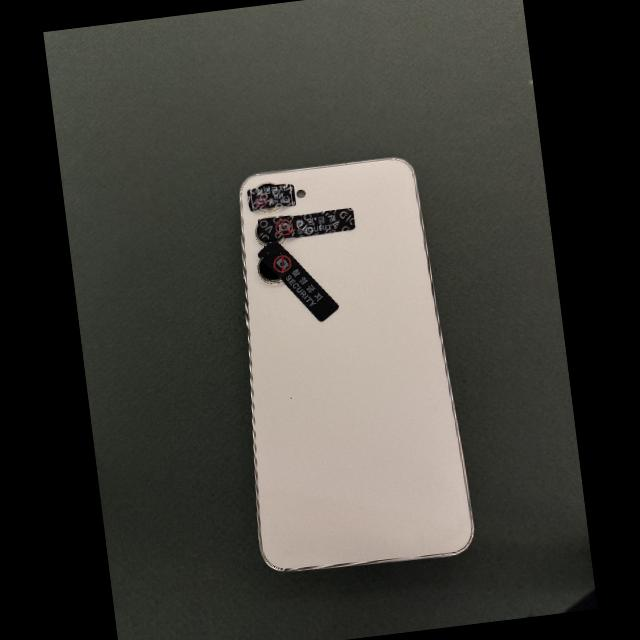lens: (256, 225, 287, 246), (257, 258, 280, 284), (256, 183, 273, 188)
phone: (240, 158, 472, 570)
sticker: (257, 240, 339, 321), (256, 207, 355, 242), (247, 184, 296, 211)
